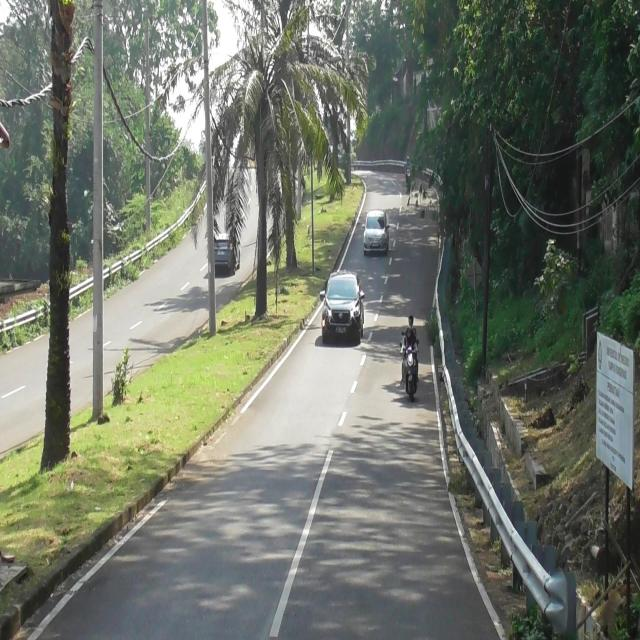motorcycle: (404, 348, 420, 403)
person: (405, 327, 417, 350), (406, 316, 414, 327)
rider_region: (398, 311, 424, 404)
